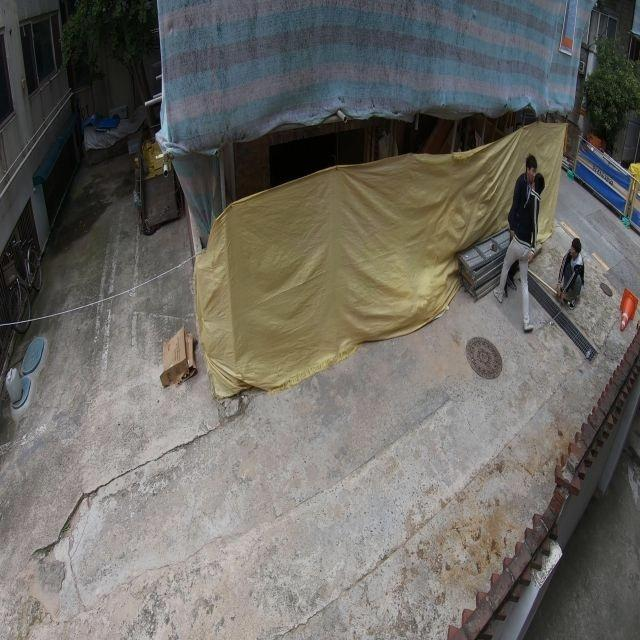fight: (494, 155, 546, 332)
non-fight: (557, 234, 587, 305)
